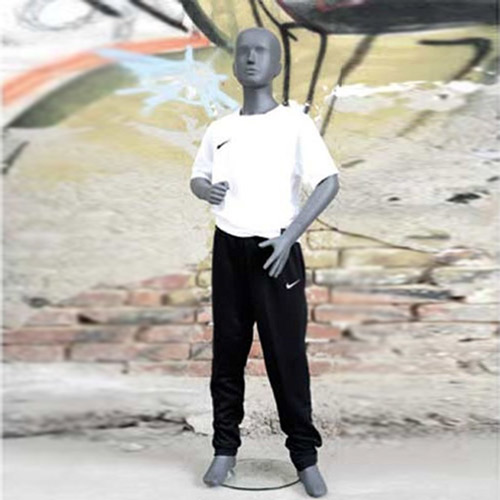person-like: (186, 23, 344, 500)
